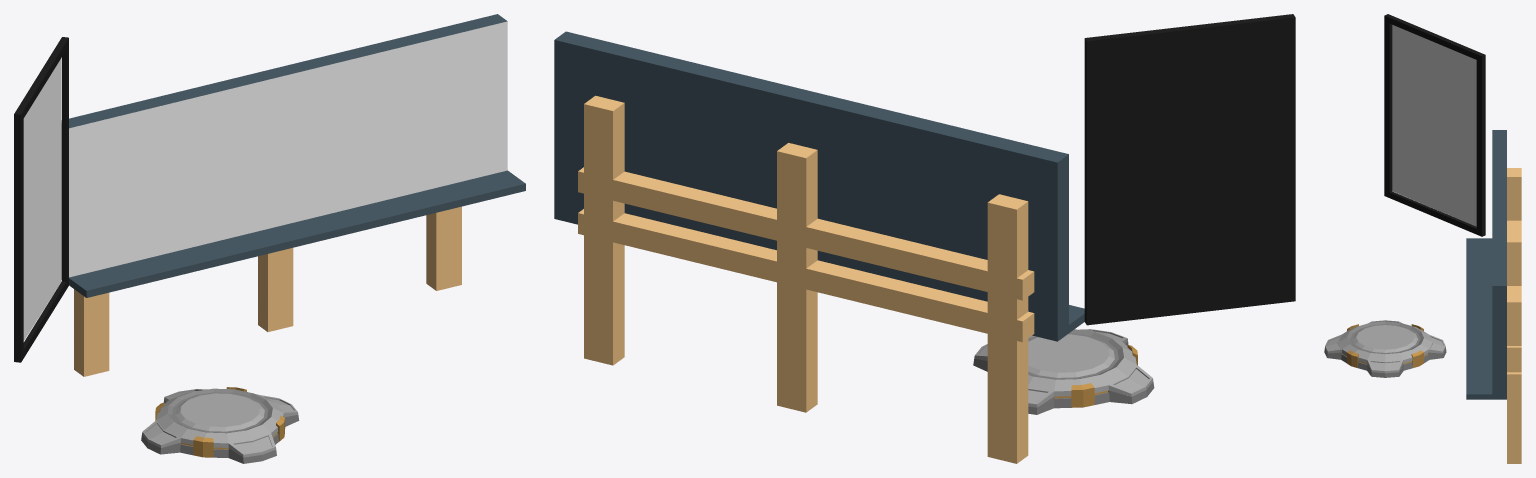
File: billboardSet5.glb
The picture shows the model from 3 angles, left to right: view 1: azimuth 30°, elevation 25°; view 2: azimuth 150°, elevation 25°; view 3: azimuth 270°, elevation 25°; orthographic projection. The views are drawn at different scales.
Visible parts, largest first — view 1: billboard.001, billboard, Props_Base, billboard.002, sidescreenScreen; view 2: billboard, sidescreenScreen, Props_Base; view 3: billboard.002, billboard, sidescreenScreen, Props_Base.
Boxes of the visible parts, left/top/right/bottom form: billboard.001: left=69, top=21, right=507, bottom=277; billboard: left=61, top=14, right=525, bottom=376; Props_Base: left=141, top=387, right=299, bottom=463; billboard.002: left=23, top=58, right=61, bottom=340; sidescreenScreen: left=14, top=37, right=68, bottom=362; billboard: left=554, top=31, right=1084, bottom=463; sidescreenScreen: left=1084, top=14, right=1295, bottom=325; Props_Base: left=973, top=329, right=1154, bottom=414; billboard.002: left=1392, top=25, right=1476, bottom=226; billboard: left=1466, top=130, right=1521, bottom=463; sidescreenScreen: left=1384, top=14, right=1485, bottom=236; Props_Base: left=1324, top=320, right=1446, bottom=377.
Bounding box in the file's own units: 9.15 × 5.65 × 3.8.
